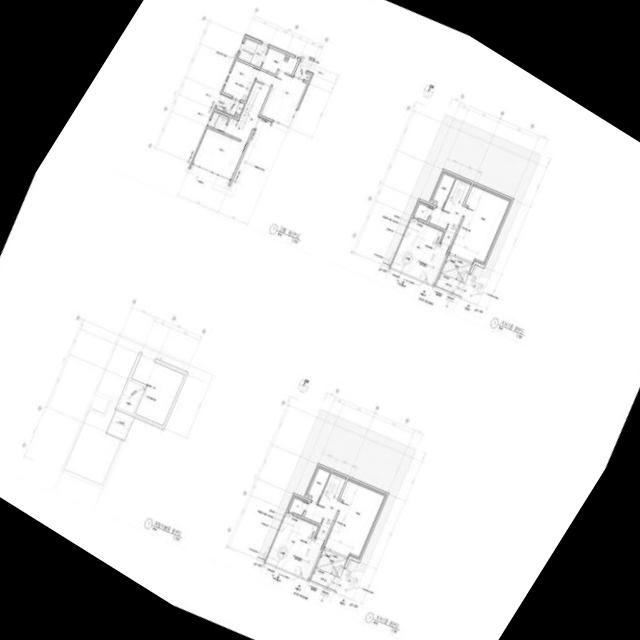background: (0, 0, 640, 640)
space_bedroom: (192, 128, 245, 179), (260, 71, 306, 126), (256, 70, 274, 85)
space_dressroom: (261, 48, 298, 74)
space_front: (316, 518, 332, 539), (441, 224, 457, 244)
space_kitchen: (222, 60, 258, 101)
space_multipurpose_space: (324, 480, 384, 556), (449, 186, 509, 262)
space_other: (390, 218, 449, 287), (265, 513, 324, 581), (131, 356, 184, 425), (231, 81, 269, 142), (428, 206, 466, 229), (303, 500, 340, 523), (118, 381, 144, 413), (432, 173, 454, 208), (307, 468, 329, 502), (414, 203, 432, 221), (289, 498, 307, 515), (236, 102, 244, 114), (303, 73, 310, 81), (429, 200, 436, 205), (304, 495, 311, 499), (284, 55, 289, 60), (234, 114, 239, 118)
space_staircase: (318, 473, 345, 510), (443, 179, 470, 215), (236, 90, 258, 128)
space_toilet: (237, 38, 268, 67), (208, 112, 228, 132), (224, 118, 237, 135)
